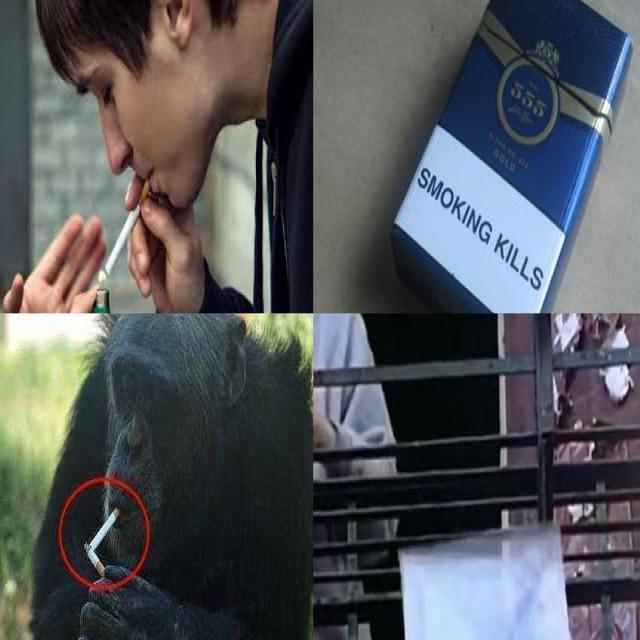cigarette: (105, 178, 151, 274), (87, 500, 121, 547), (82, 546, 106, 578)
